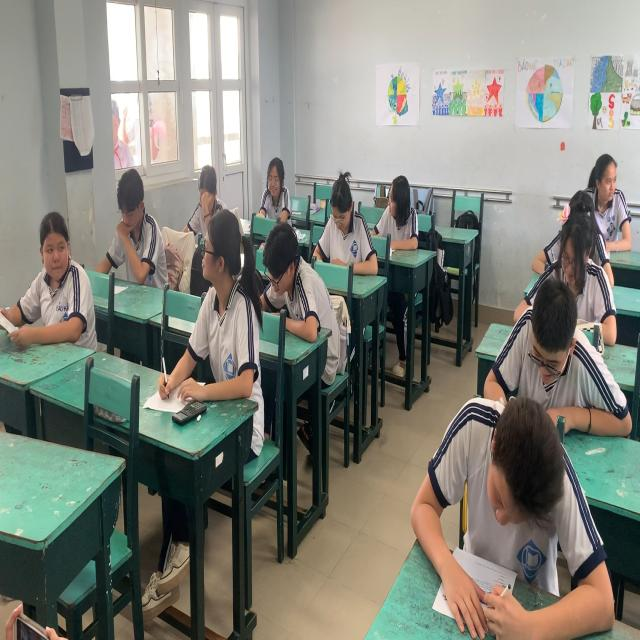cheating: (192, 217, 252, 410), (30, 210, 90, 345), (588, 144, 638, 258), (371, 176, 421, 255)
not_cheating: (416, 400, 577, 640), (509, 279, 588, 396), (104, 165, 160, 289), (258, 227, 312, 320), (320, 175, 369, 272), (556, 202, 594, 286), (256, 155, 297, 220), (184, 158, 230, 213)
